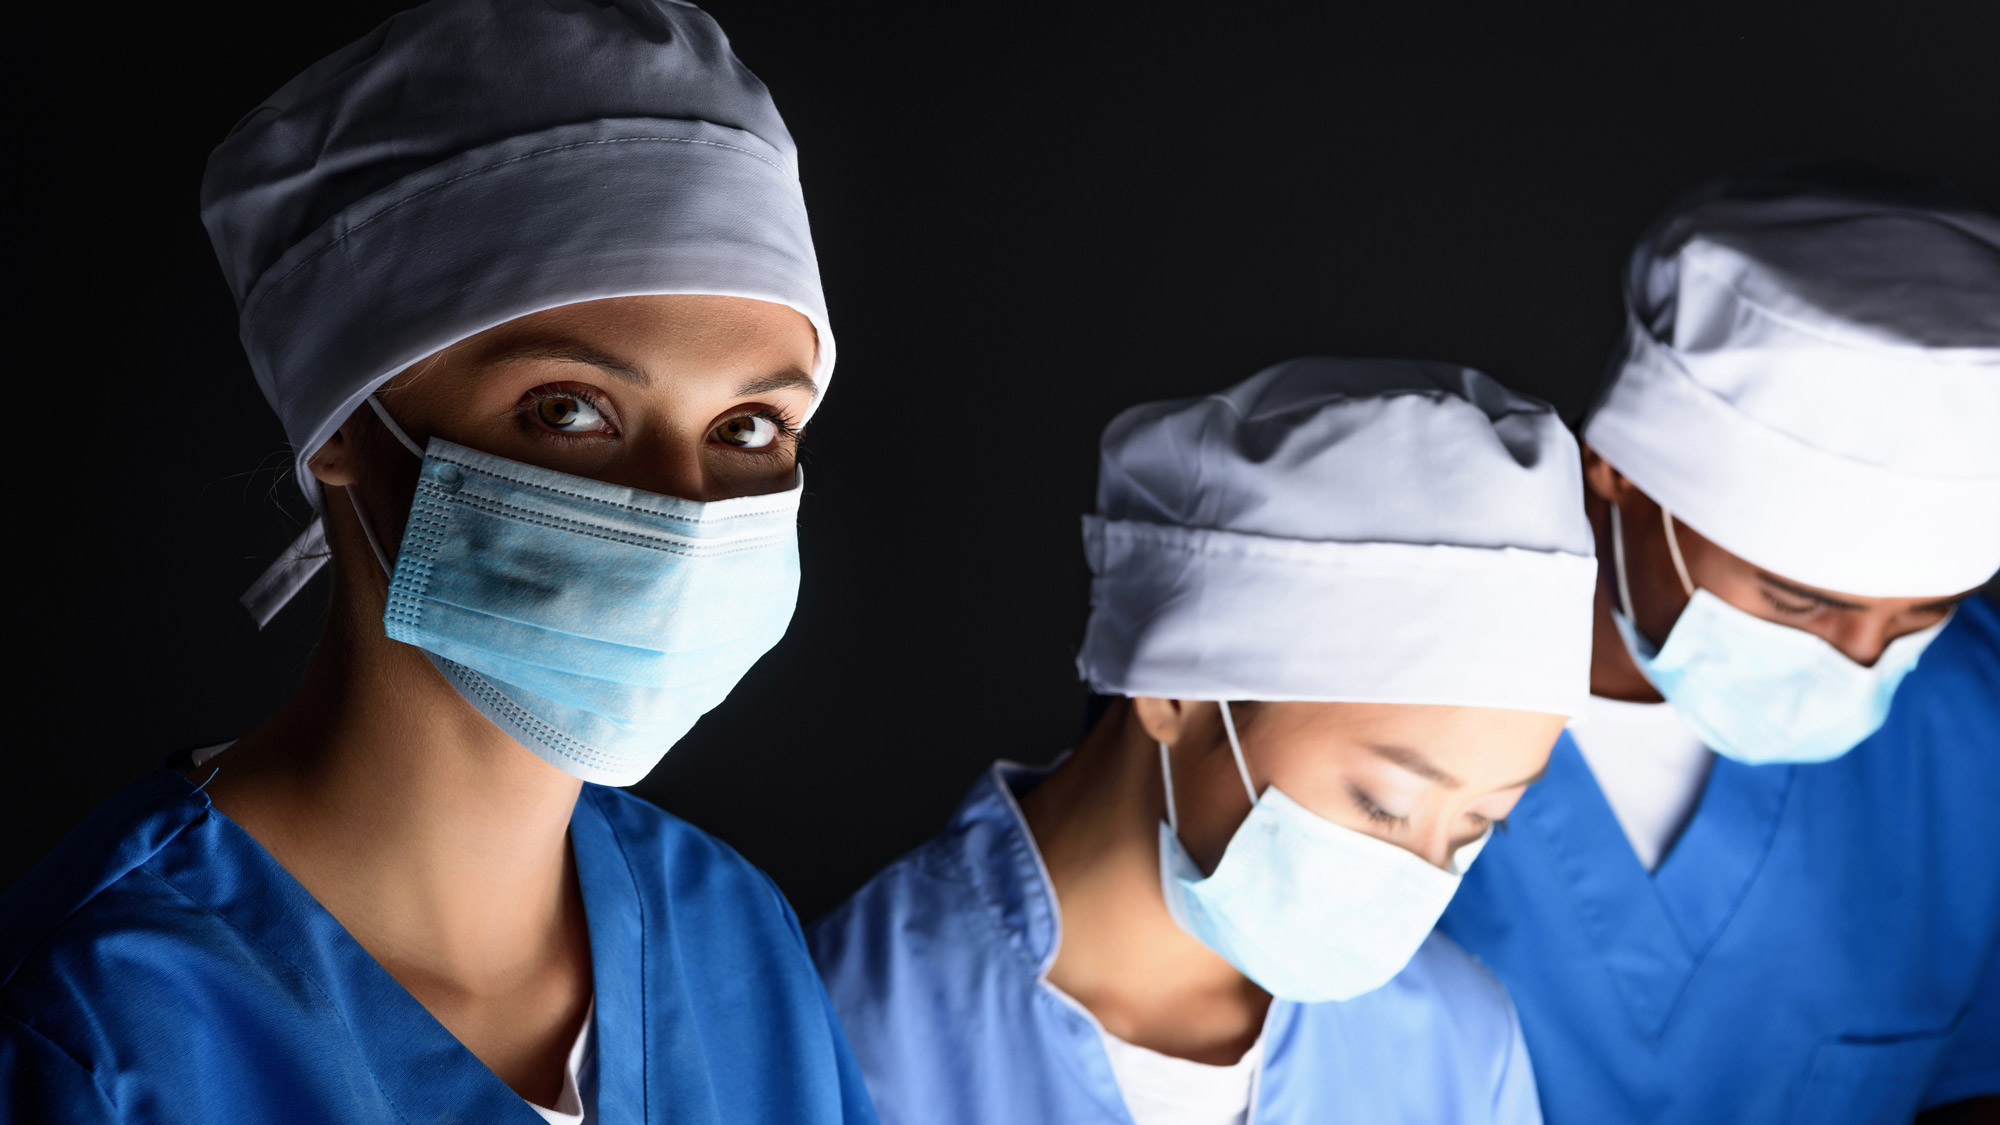with_mask_and_cap: (241, 28, 827, 808), (1108, 393, 1588, 991), (1596, 202, 2000, 771)
